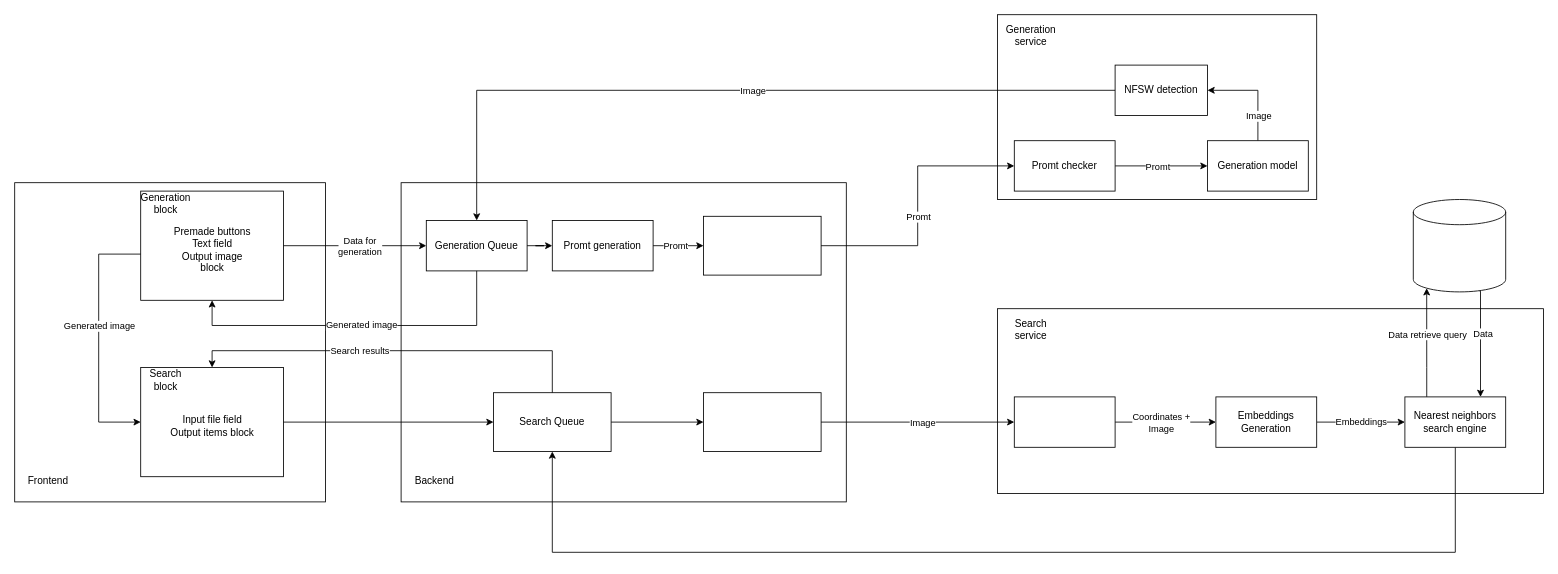
Some shapes in this 1558 by 574 pixel diagram are drawn without their labels. The box of each missing label's shape, as (x1, y1, x2, y2) in pixels:
Detection model: (1013, 396, 1115, 447)
Embedding space storage: (1412, 199, 1506, 292)
Generation engine: (703, 215, 821, 275)
Search engine: (703, 392, 821, 452)
